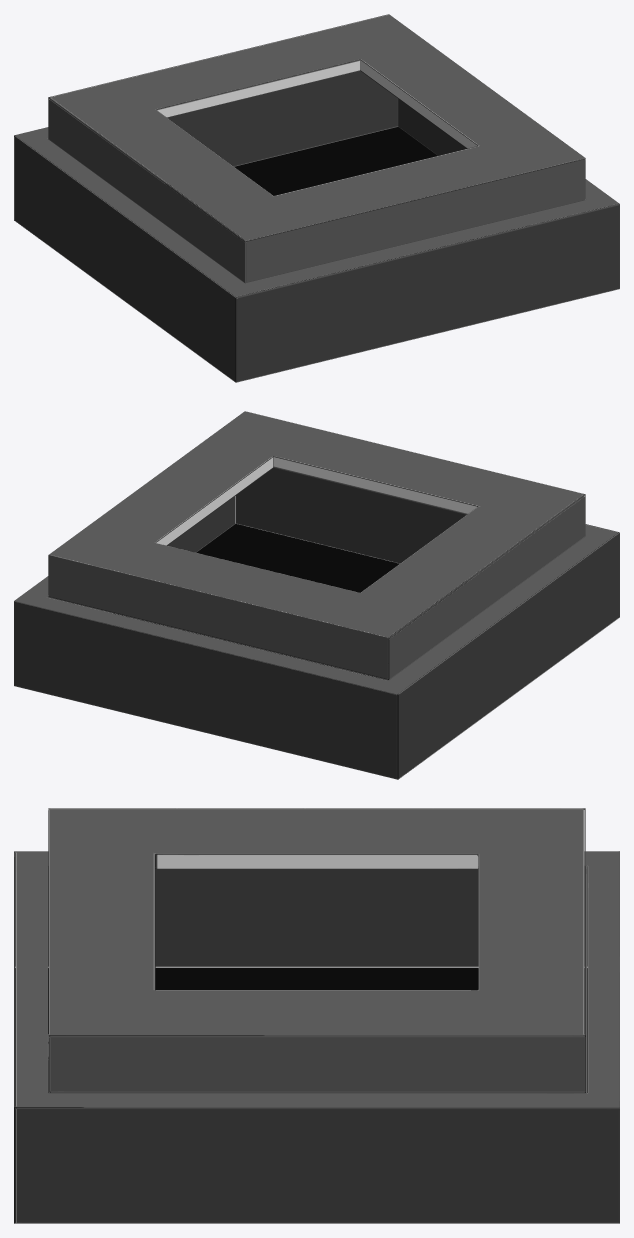
The model's file is lightbase.obj.
3 views of the same model, one above another, from view 1: azimuth 30°, elevation 25°; view 2: azimuth 150°, elevation 25°; view 3: azimuth 270°, elevation 25° (orthographic). The views are drawn at different scales.
Visible parts, largest first — view 1: poplight; view 2: poplight; view 3: poplight.
Part boxes in pixels (box(x1,y1,x2,y2)): poplight: box(14, 14, 619, 382); poplight: box(14, 411, 619, 779); poplight: box(14, 808, 619, 1223).
Bounding box in the file's own units: 12.9 × 4.08 × 12.9.
